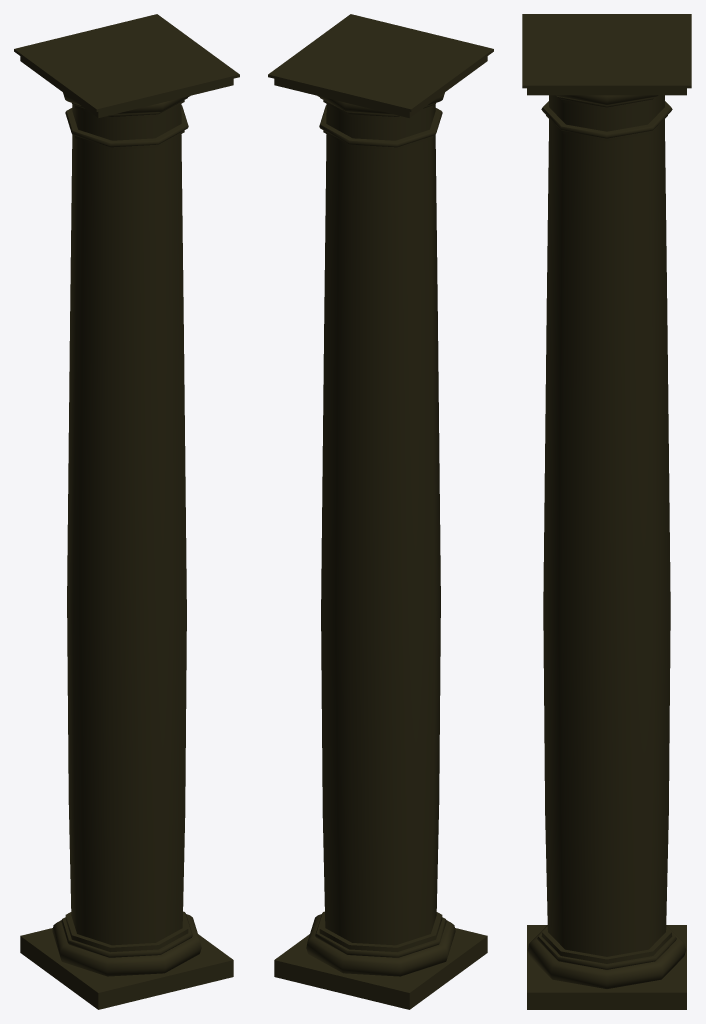
Rendered from Pillar01.FBX.
The picture shows the model from 3 angles, left to right: view 1: azimuth 30°, elevation 25°; view 2: azimuth 150°, elevation 25°; view 3: azimuth 270°, elevation 25°; orthographic projection. The views are drawn at different scales.
Visible parts, largest first — view 1: Pillar01; view 2: Pillar01; view 3: Pillar01.
Part boxes in pixels (x1,y1,x2,y2): Pillar01: [14, 14, 239, 1009]; Pillar01: [268, 14, 493, 1009]; Pillar01: [522, 14, 691, 1009].
Size of the model in its own units: 265 by 1595 by 265.
